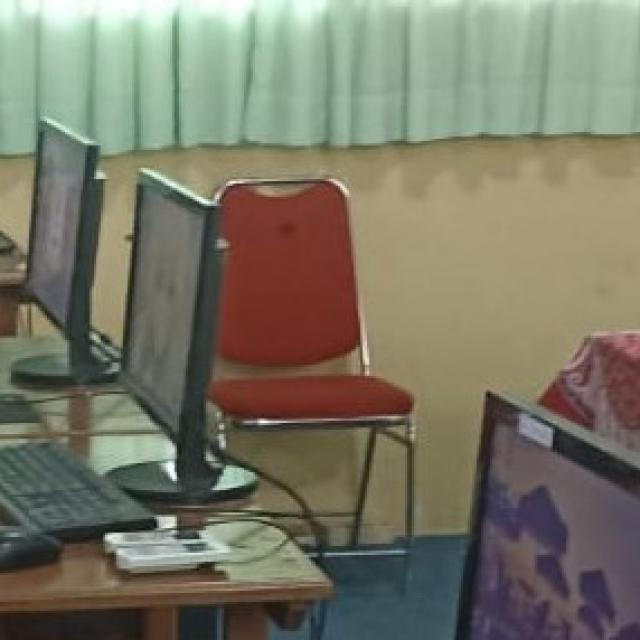onscreen: (457, 393, 640, 639), (123, 169, 203, 434), (29, 119, 85, 327)
